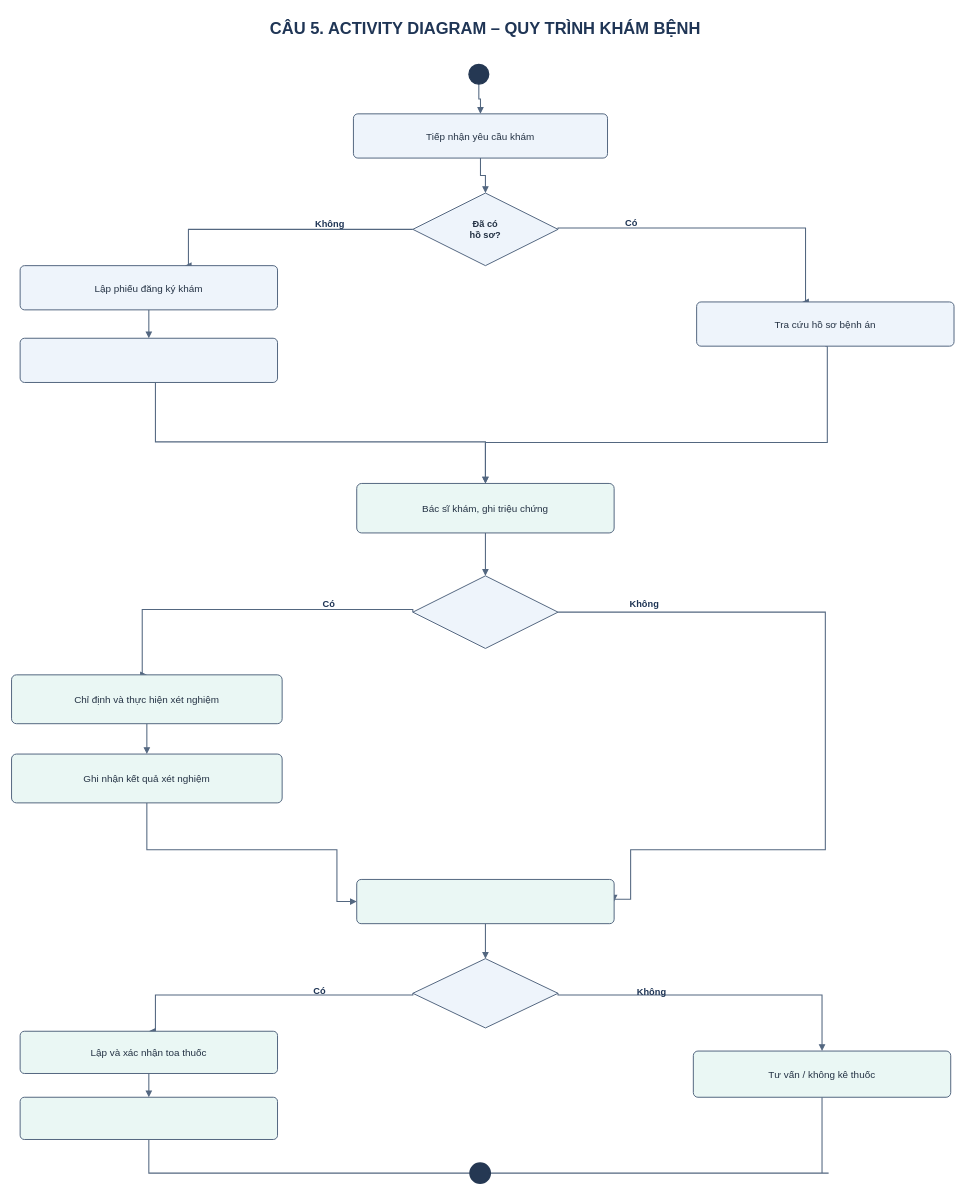
This 966x1195 diagram has some shape labels left out. The box of each missing label's shape, as (x1, y1, x2, y2) in pixels:
Bác sĩ kết luận chẩn đoán: (356, 879, 614, 924)
Cần kê thuốc?: (412, 958, 558, 1028)
Cần xét nghiệm?: (412, 575, 558, 649)
Giao toa, hướng dẫn sử dụng: (19, 1096, 278, 1140)
Thu lệ phí năm, tạo hồ sơ: (19, 337, 278, 383)
